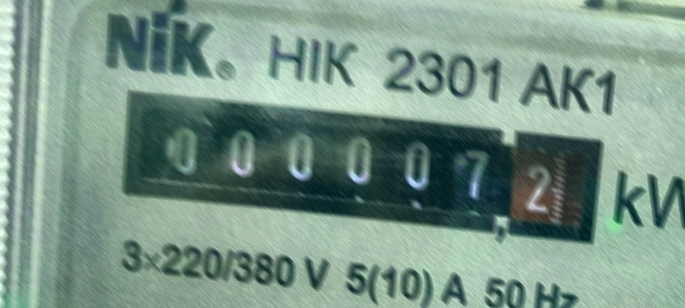0: (223, 125, 263, 181), (341, 132, 378, 189), (399, 139, 436, 195), (283, 129, 320, 184), (167, 124, 204, 178)
2: (521, 163, 556, 217)
7: (457, 146, 492, 204)
screen: (99, 71, 625, 266)
